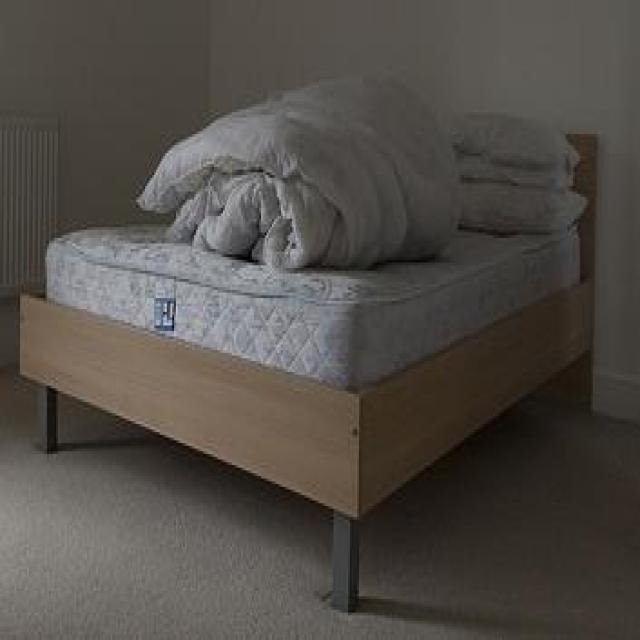bed: (17, 75, 602, 617)
